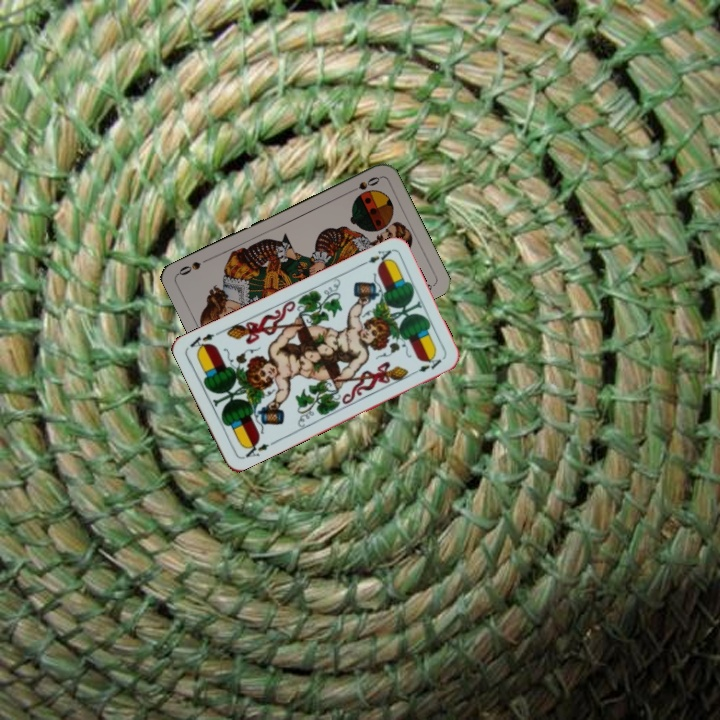EA: (238, 436, 277, 461), (356, 246, 394, 269)
SO: (344, 172, 383, 196)
